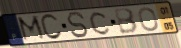B: (112, 7, 140, 35)
C: (39, 13, 64, 41), (88, 10, 112, 36)
M: (16, 14, 48, 43)
O: (137, 6, 160, 33)
S: (65, 11, 91, 39)
